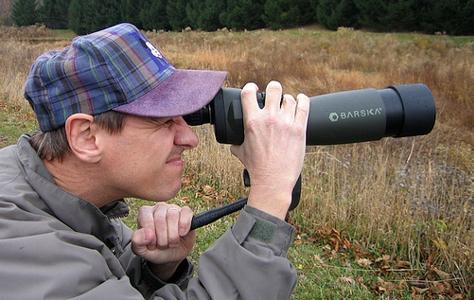person: (2, 23, 311, 300)
